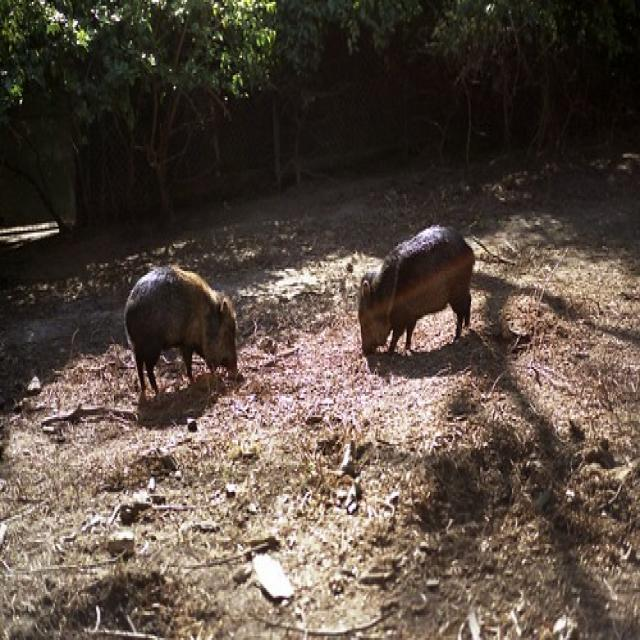boar: (96, 242, 267, 414), (339, 215, 497, 376)
